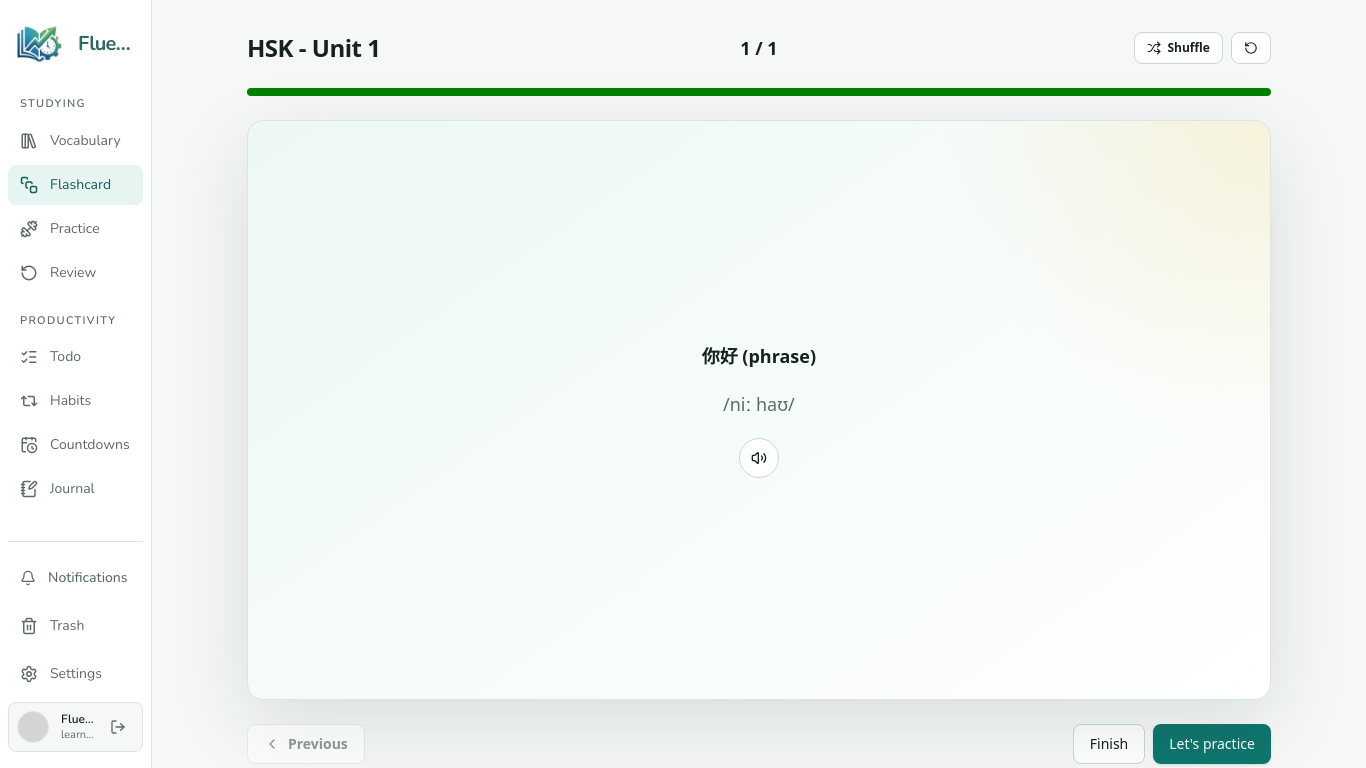
Test: FluentA app routes › supports Quizlet keyboard shortcuts and shuffle toggle in flashcard viewer
Check: the button with aria-label "Show card back" is shown, box [247, 120, 1271, 700]
// Test keyboard shortcut Space to flip card
Press Space
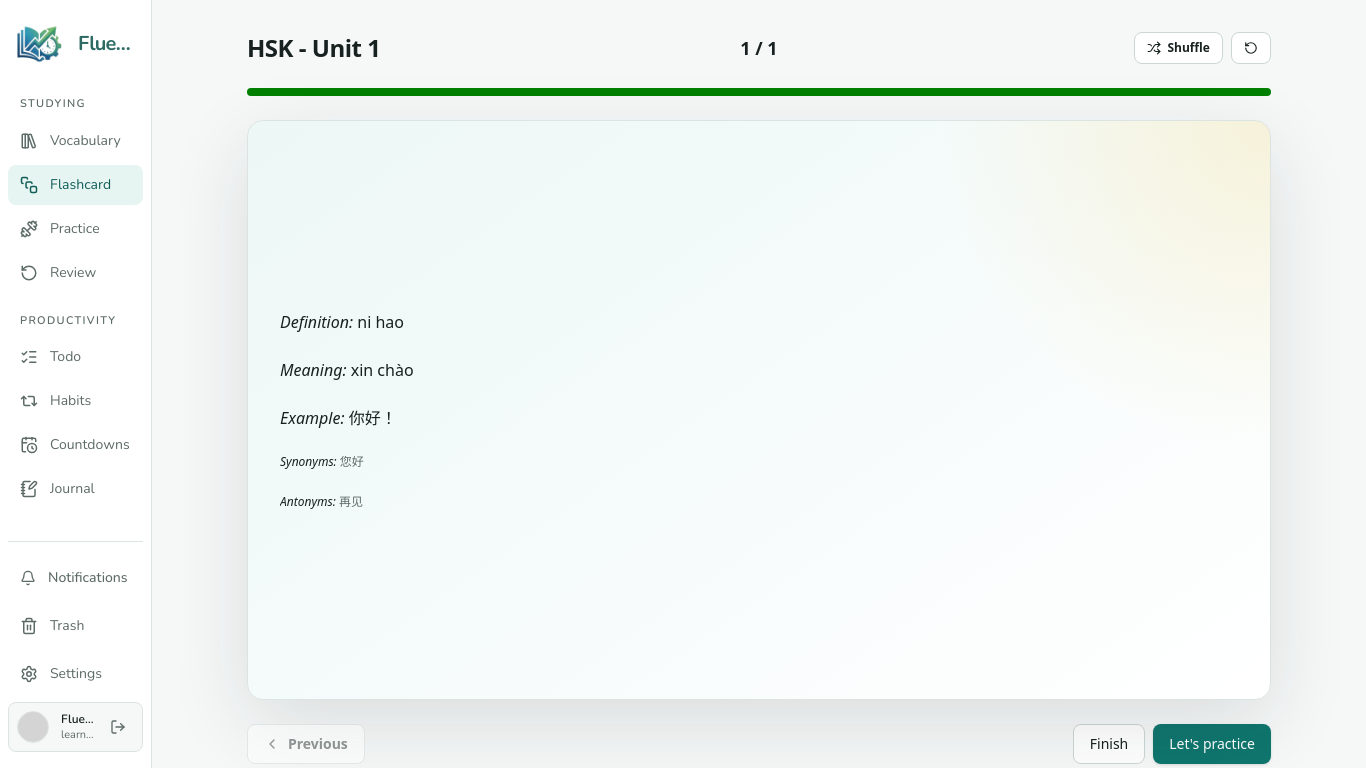
Check: the button with aria-label "Show card front" is shown, box [247, 120, 1271, 700]
// Test keyboard shortcut Space to flip back
Press Space
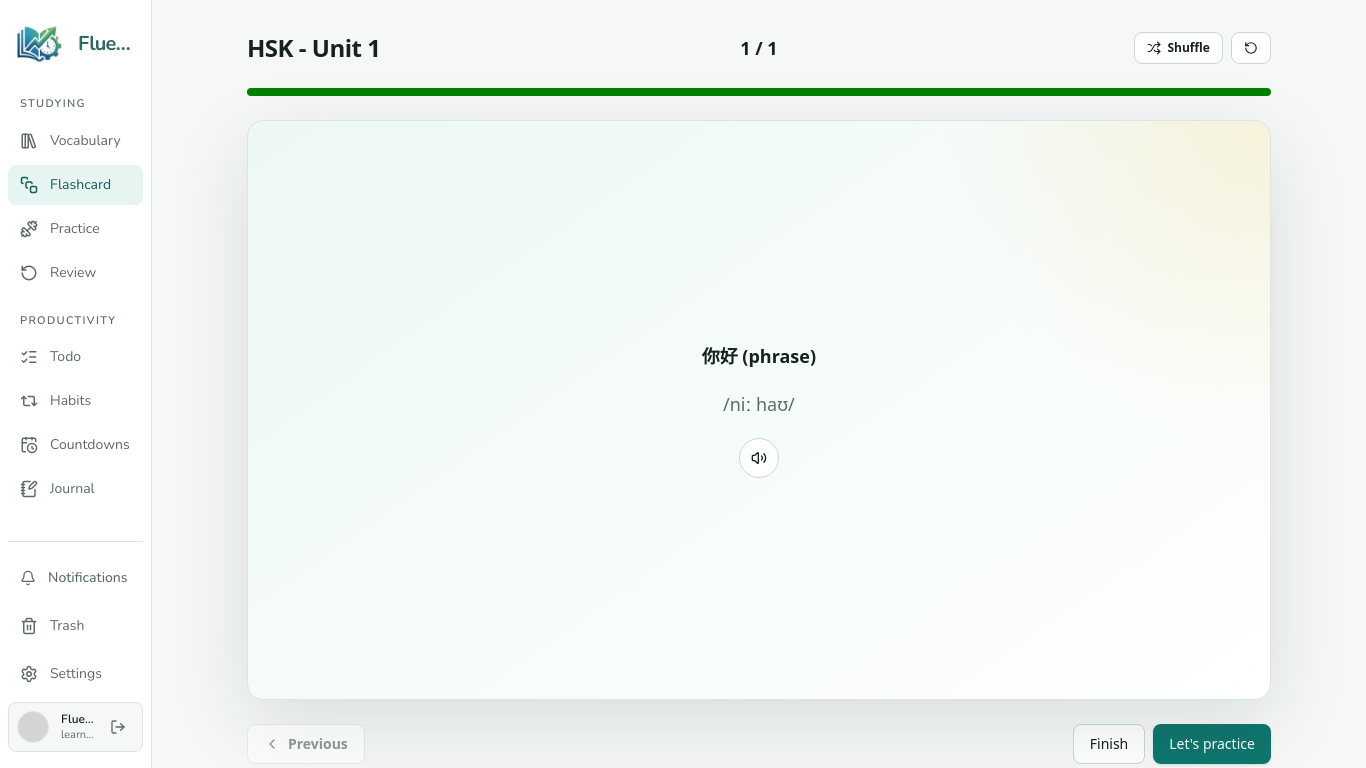
Check: the button with aria-label "Show card back" is shown, box [247, 120, 1271, 700]
Click the button with aria-label "Enable deck shuffle": (1179, 48) [1134, 32, 1223, 64]
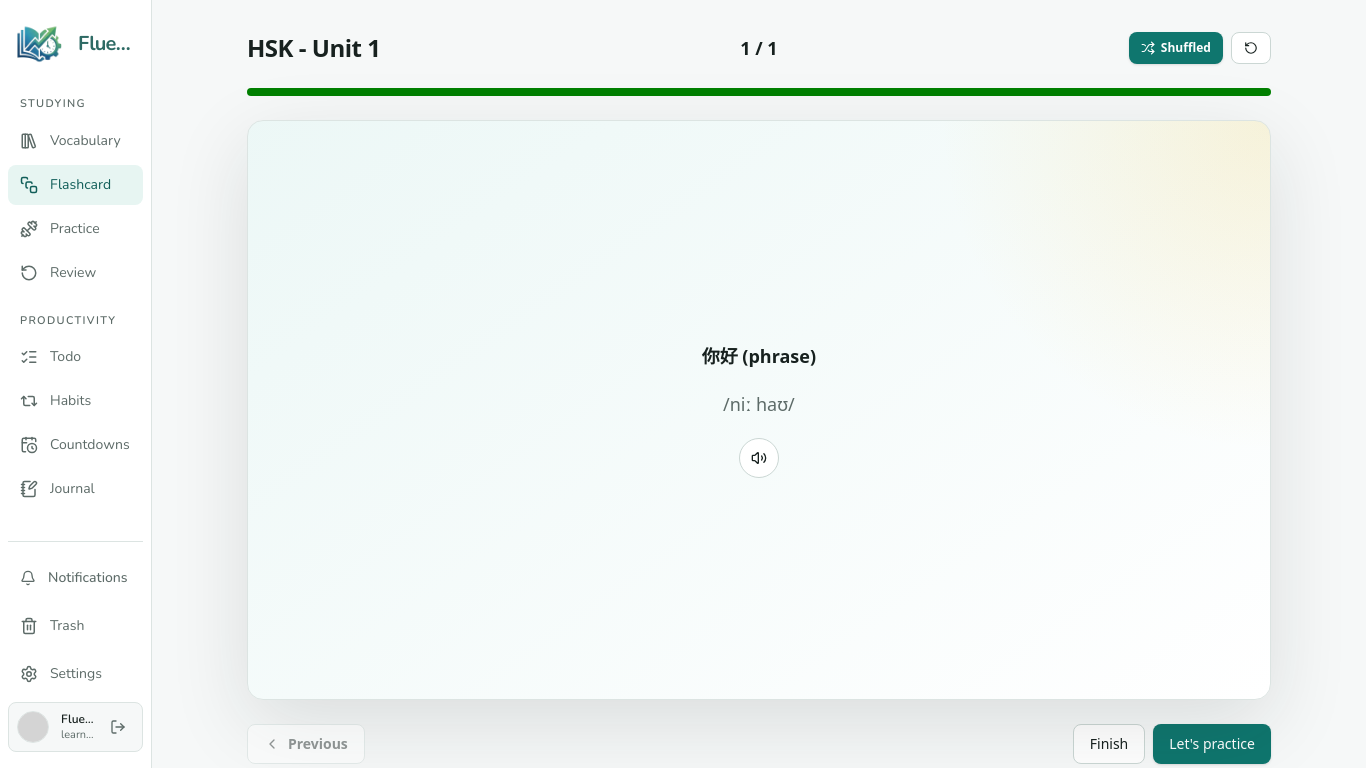
Check: the button with aria-label "Disable deck shuffle" is shown, box [1129, 32, 1223, 64]
